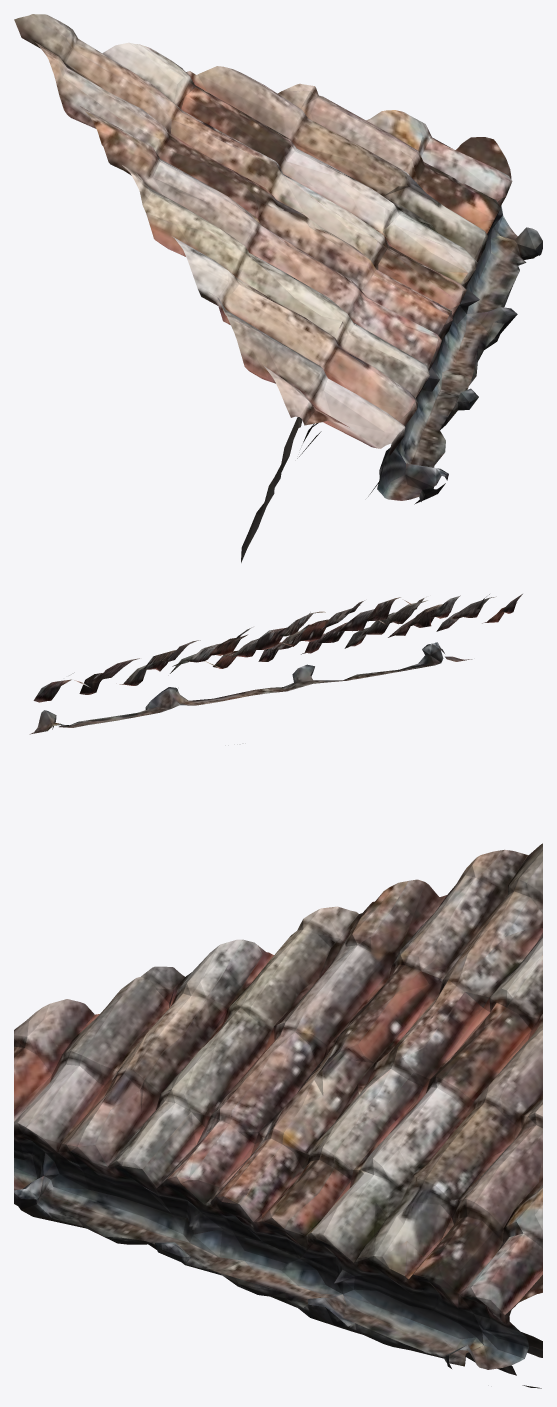
3 renders of one model, top to bottom at view 1: azimuth 30°, elevation 25°; view 2: azimuth 150°, elevation 25°; view 3: azimuth 270°, elevation 25°, orthographic. The views are drawn at different scales.
Bounding box in the file's own units: 1.67 × 1.26 × 1.67.
Materials: 4 (4 with a texture image).
